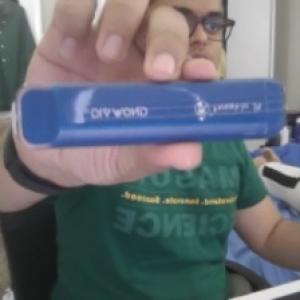Diamond-E-Ciggirate: (9, 72, 292, 152)
